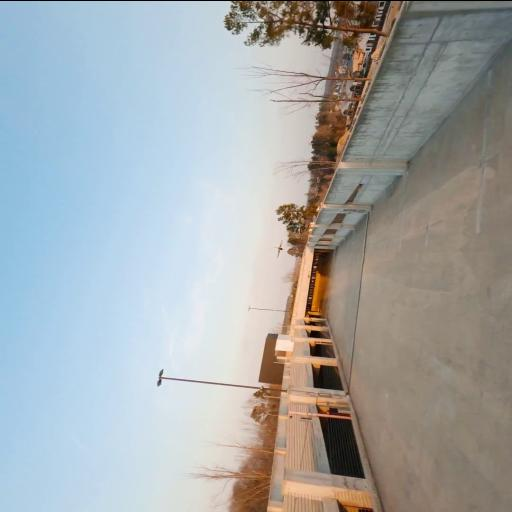uav: (272, 238, 285, 258)
